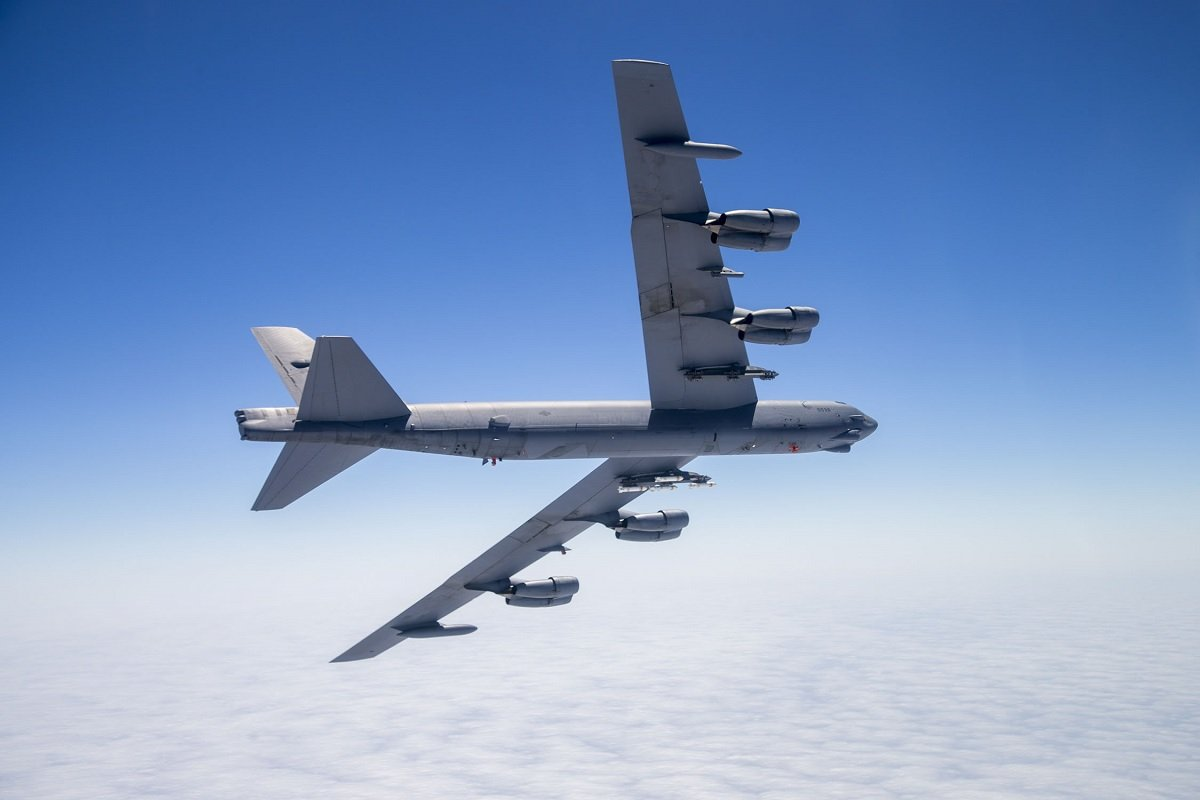B52: (233, 58, 878, 663)
